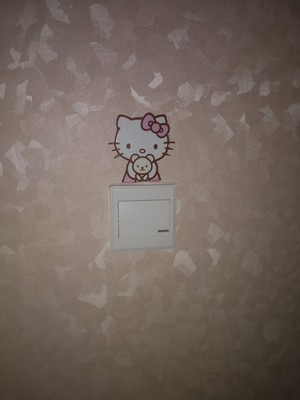switch: (115, 195, 174, 242)
